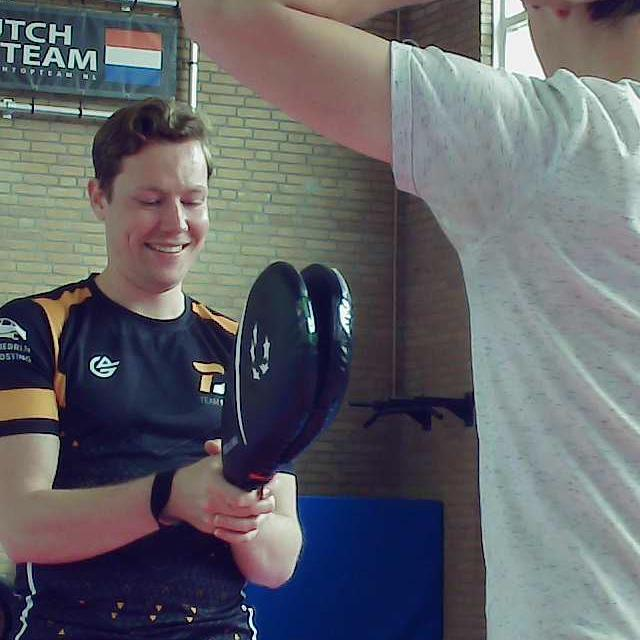paddle: (219, 261, 354, 491)
